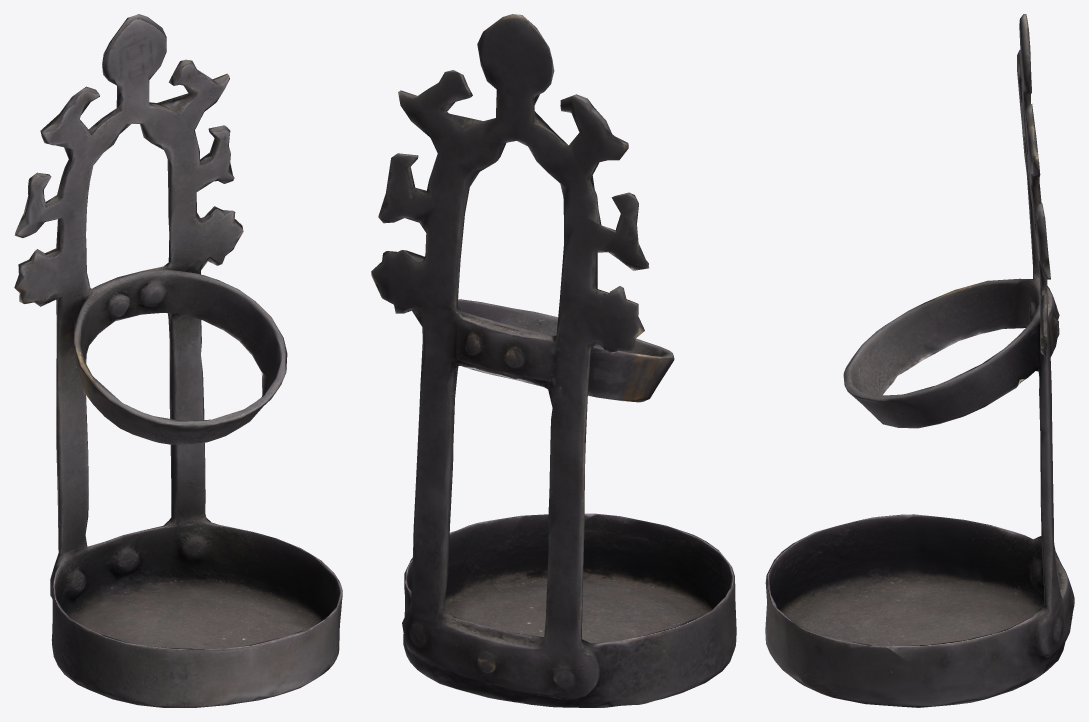
The model's file is SM_Lamp_Stand.fbx.
3 renders of one model, left to right at view 1: azimuth 30°, elevation 25°; view 2: azimuth 150°, elevation 25°; view 3: azimuth 270°, elevation 25°, orthographic. The views are drawn at different scales.
Visible parts, largest first — view 1: KCDF_2022_prop_Lamp_Stand_Mesh; view 2: KCDF_2022_prop_Lamp_Stand_Mesh; view 3: KCDF_2022_prop_Lamp_Stand_Mesh.
Boxes of the visible parts, left/top/right/bottom form: KCDF_2022_prop_Lamp_Stand_Mesh: left=14, top=14, right=342, bottom=707; KCDF_2022_prop_Lamp_Stand_Mesh: left=371, top=14, right=736, bottom=707; KCDF_2022_prop_Lamp_Stand_Mesh: left=765, top=14, right=1074, bottom=707.
Bounding box in the file's own units: 20.06 × 45.31 × 20.29.
1 material, 1 textured.
